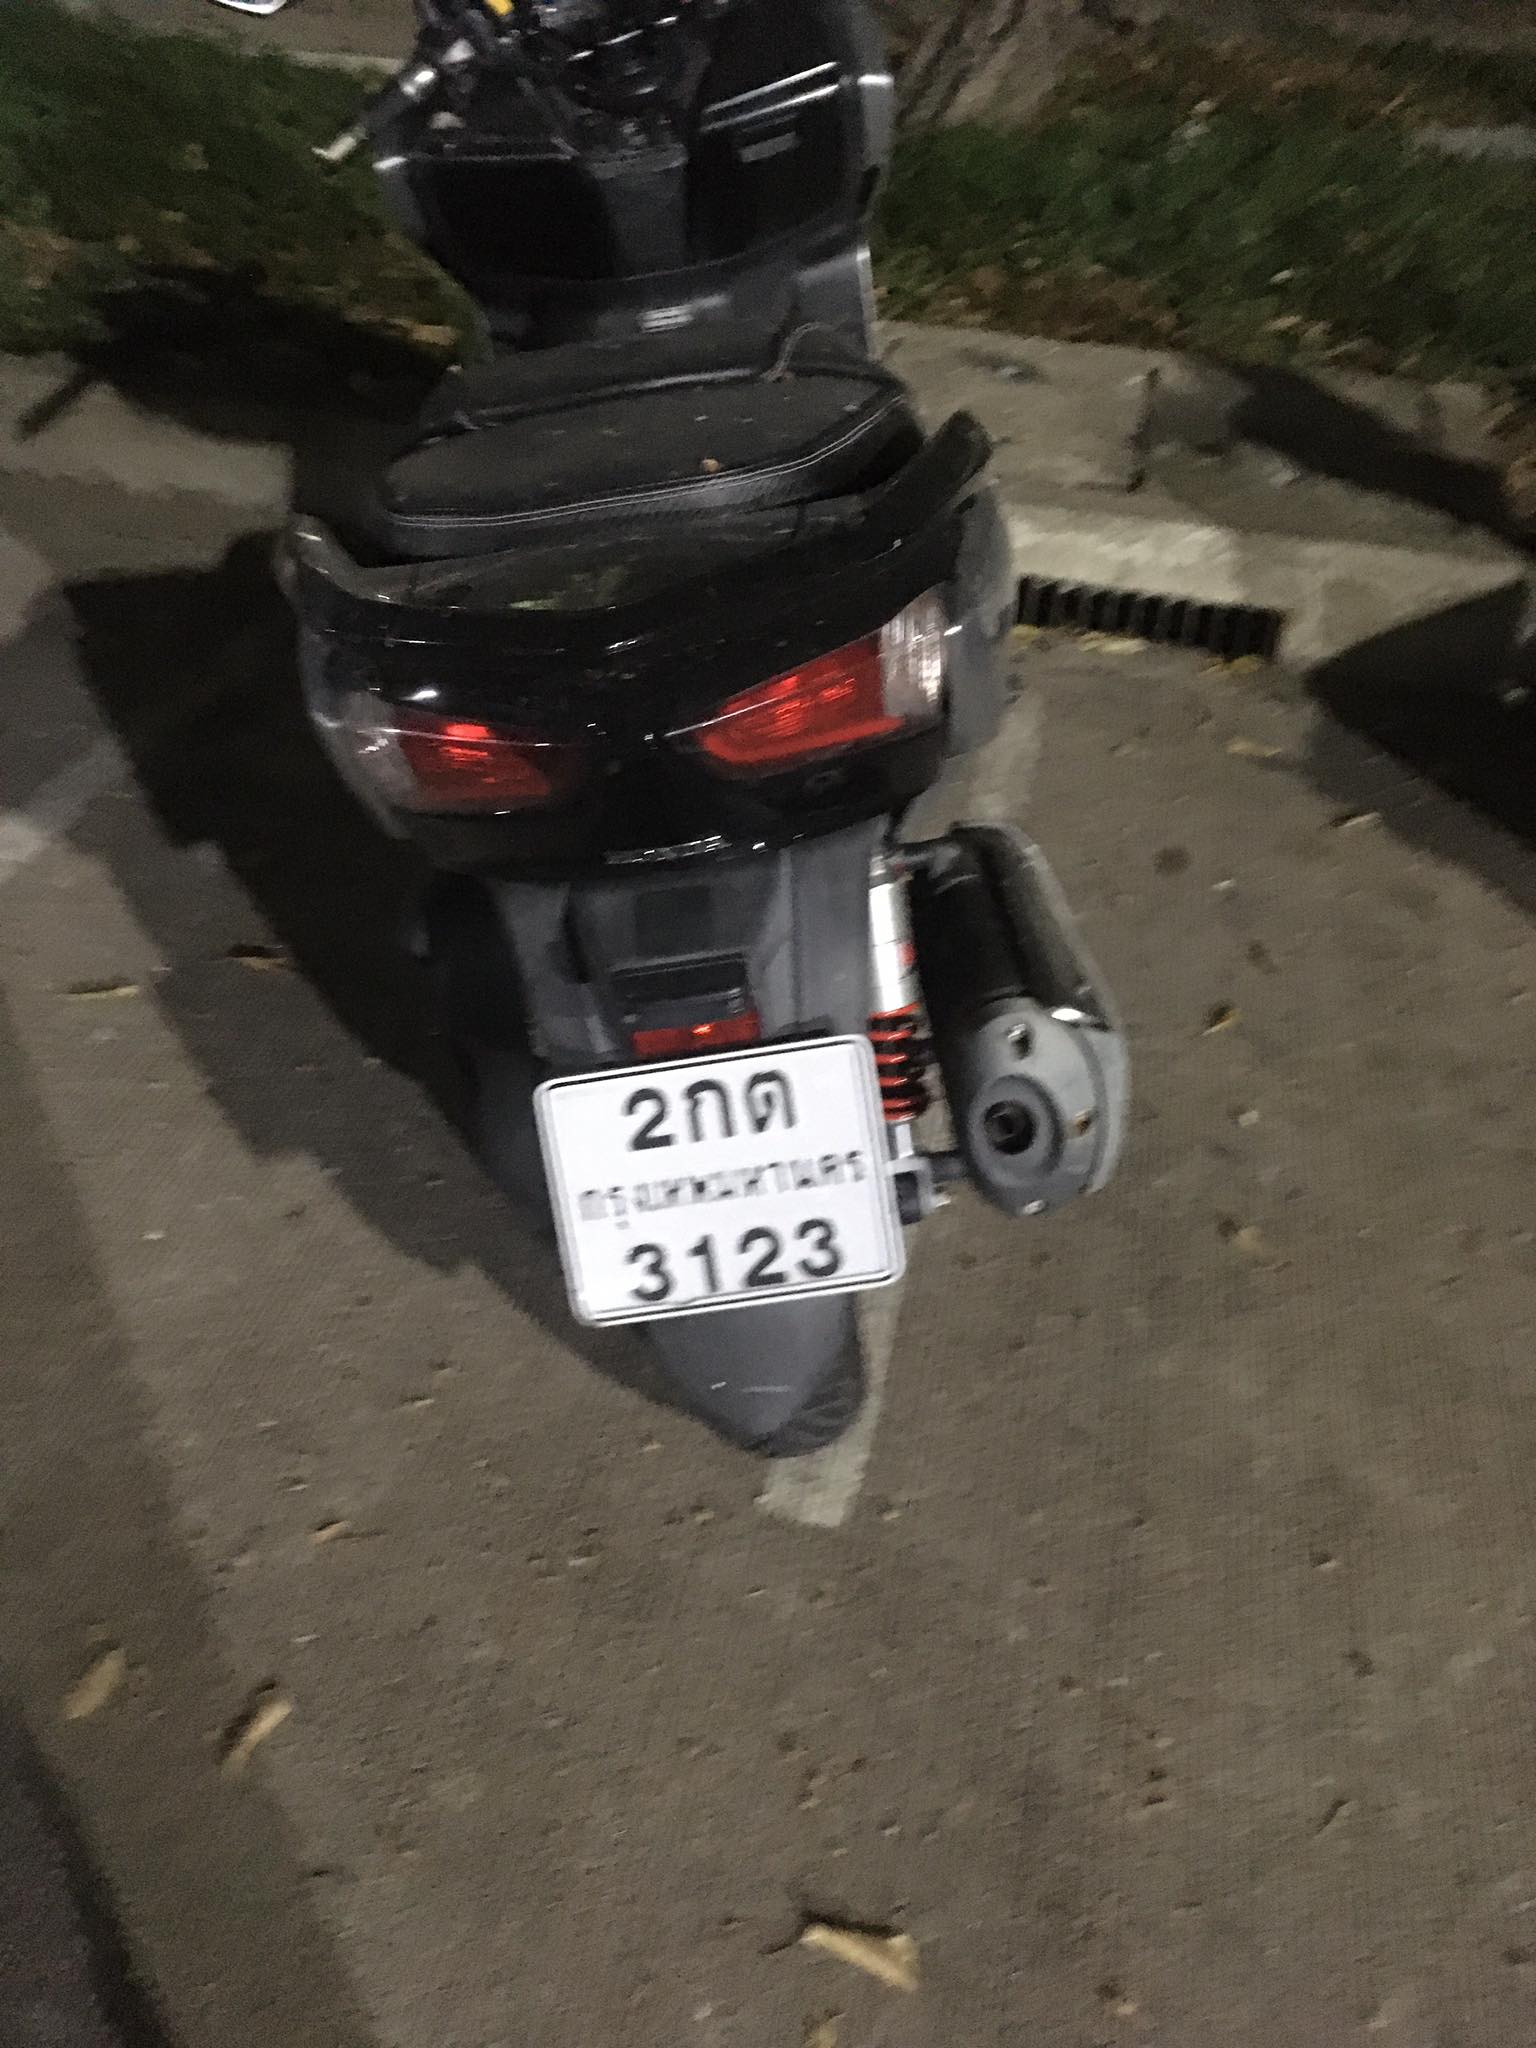line1: (616, 1058, 794, 1155)
line2: (574, 1155, 879, 1234)
line3: (629, 1218, 844, 1314)
